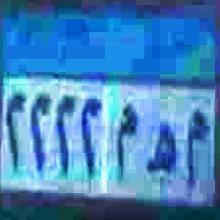2: (80, 93, 104, 185), (54, 91, 77, 180), (30, 91, 52, 175), (6, 85, 27, 170)
haa: (144, 121, 178, 186)
meem: (184, 105, 211, 191), (116, 104, 140, 189)
